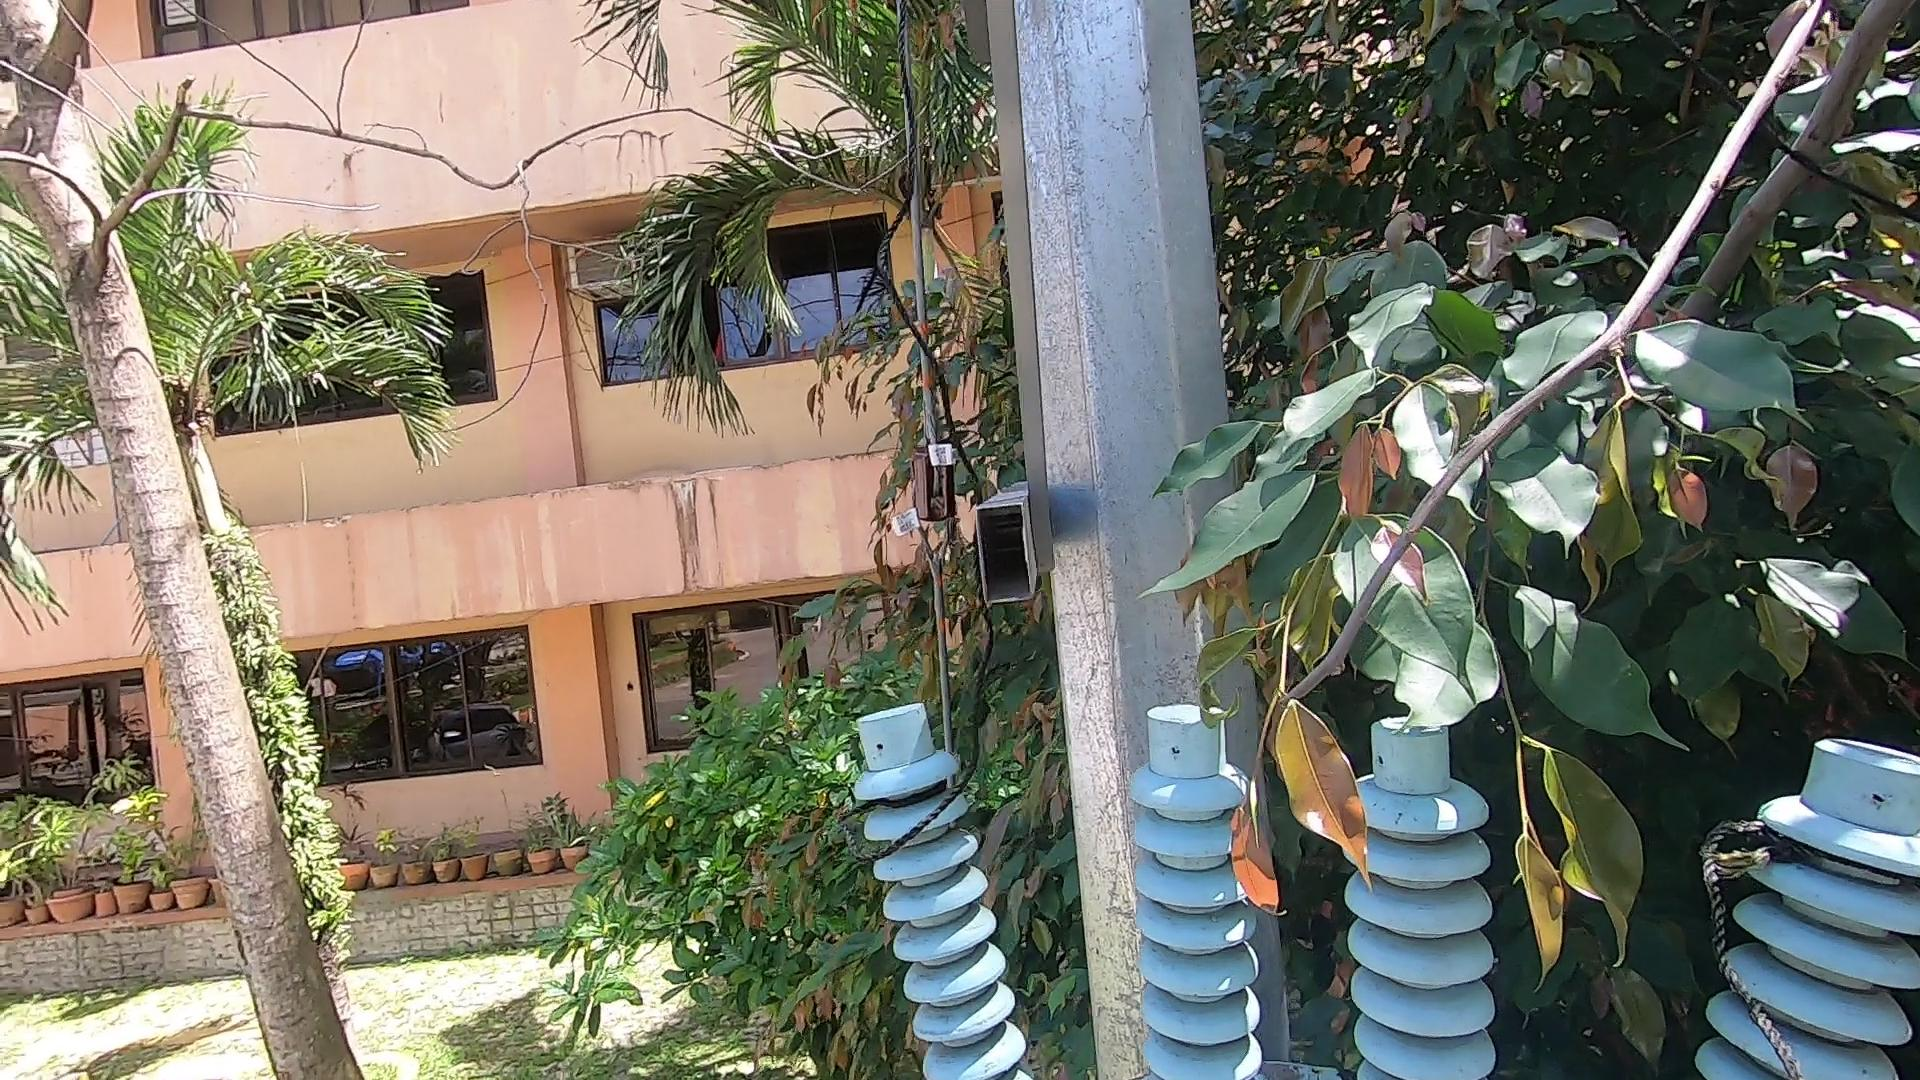tree branch: (1273, 1, 1909, 704)
